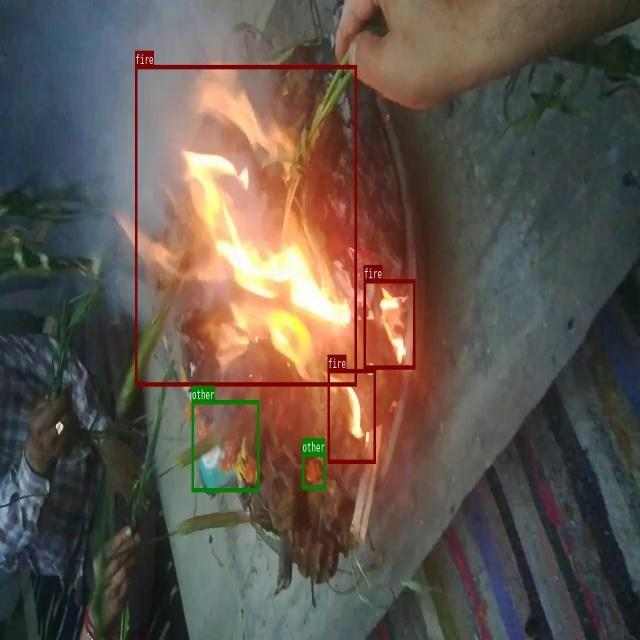fire: (135, 64, 356, 385), (363, 278, 415, 369), (327, 369, 375, 463)
